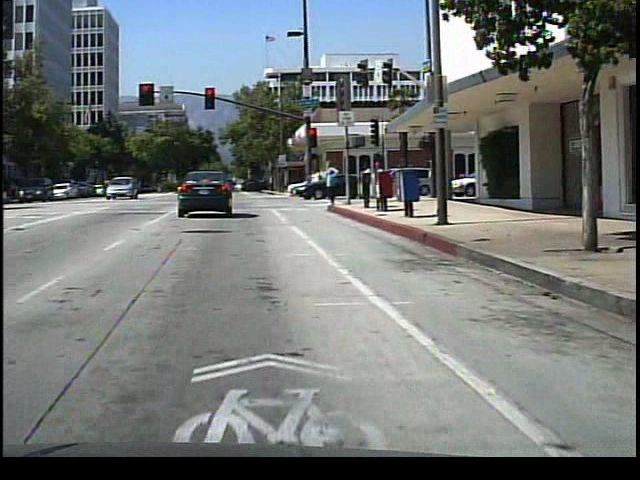person: (320, 153, 344, 211), (370, 156, 389, 203), (359, 159, 377, 200)
